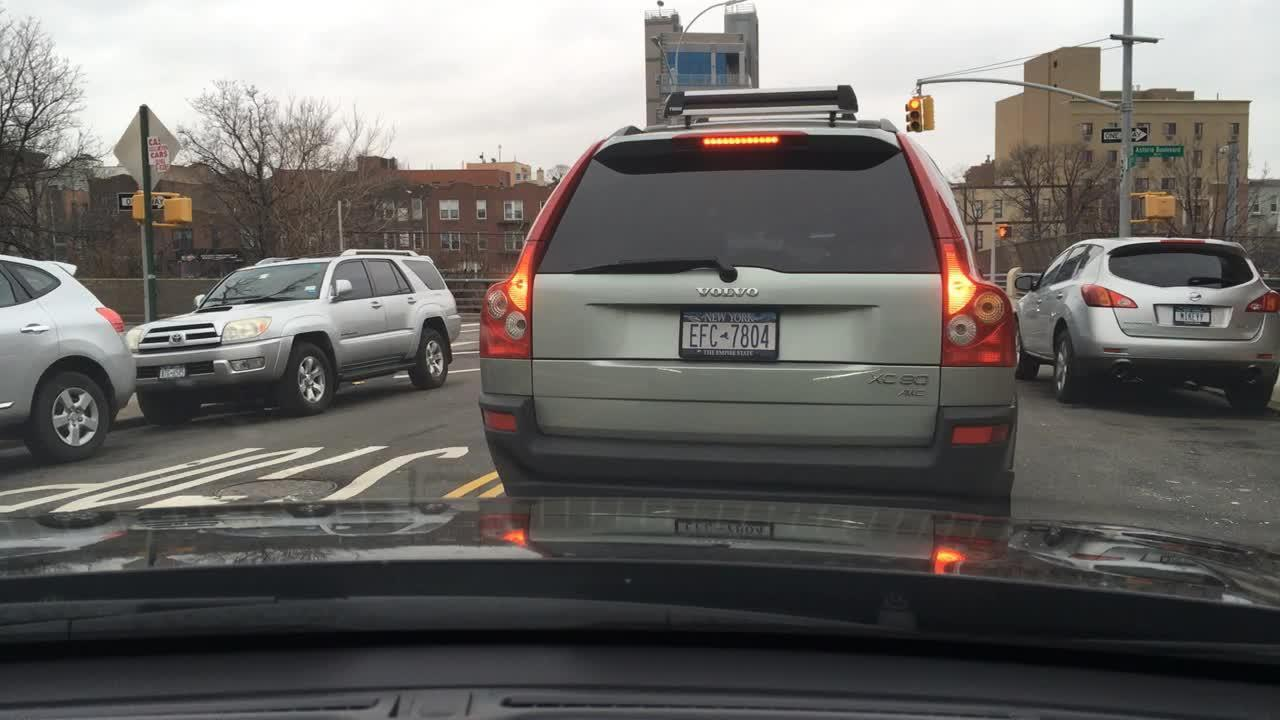Toyota: (169, 332, 186, 345)
volvo: (690, 283, 763, 302)
